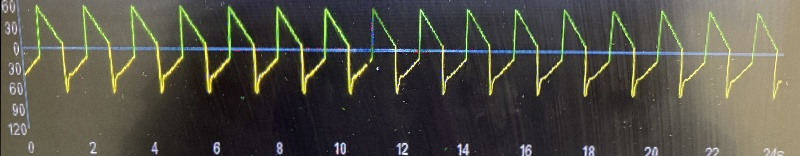peepi: (20, 0, 799, 102)
